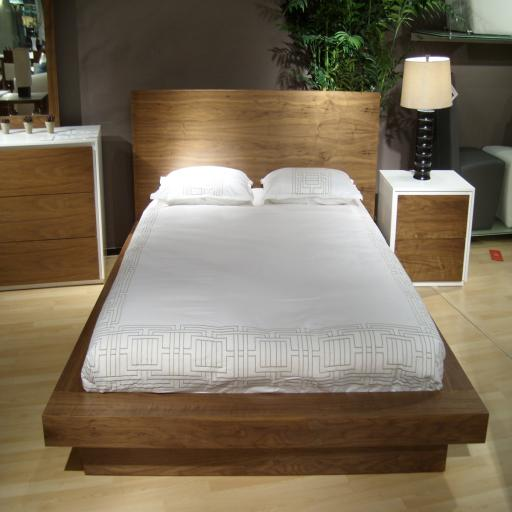bed: (42, 89, 488, 476)
